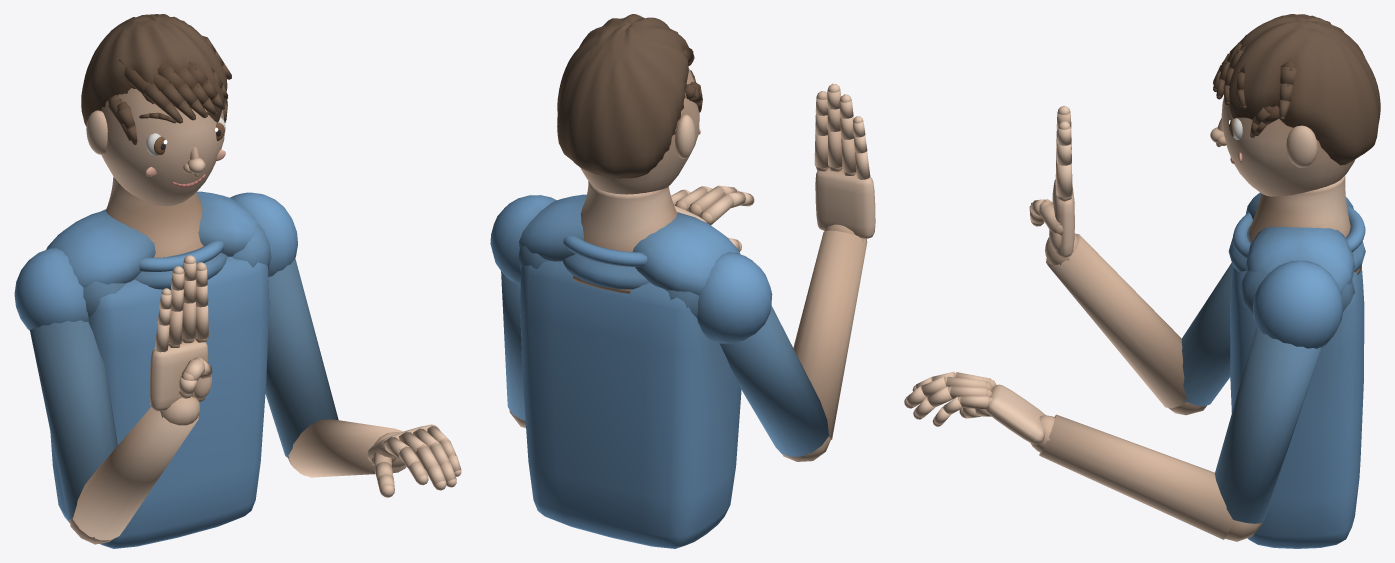
3 renders of one model, left to right at view 1: azimuth 30°, elevation 25°; view 2: azimuth 150°, elevation 25°; view 3: azimuth 270°, elevation 25°, orthographic.
Parts seen in each view (by area): view 1: LSC_Body; view 2: LSC_Body; view 3: LSC_Body.
Boxes of the visible parts, x1,y1,x2,y2 form: LSC_Body: [14, 14, 461, 548]; LSC_Body: [490, 14, 875, 548]; LSC_Body: [904, 14, 1380, 548].
Bounding box in the file's own units: 0.4304 × 0.713 × 0.6104.
